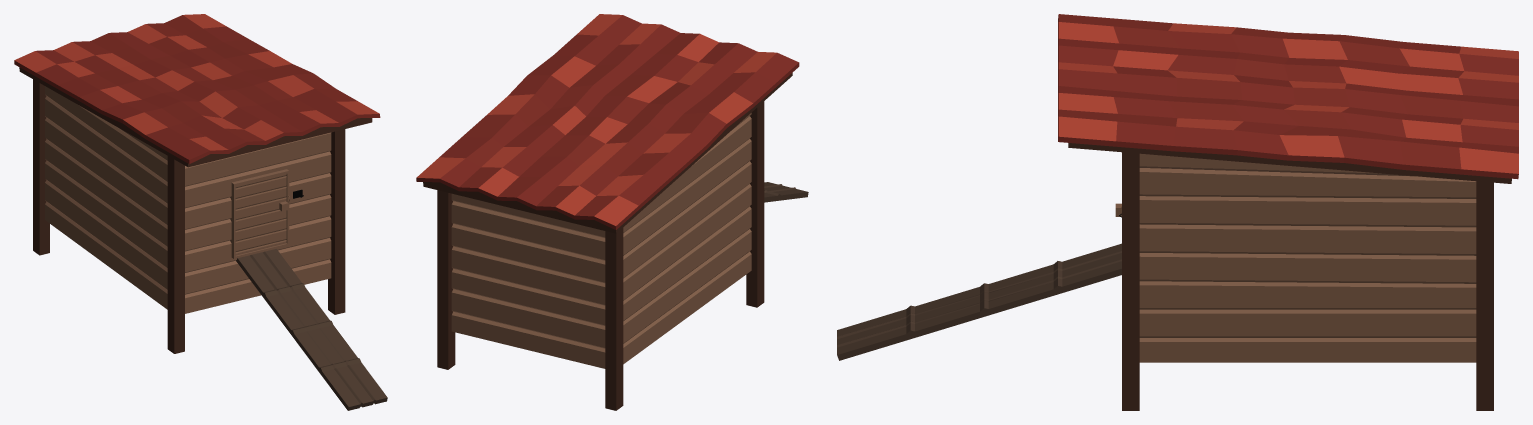
Rendered from Coop_A.gltf.
3 views of the same model, side by side, from view 1: azimuth 30°, elevation 25°; view 2: azimuth 150°, elevation 25°; view 3: azimuth 270°, elevation 25° (orthographic). The views are drawn at different scales.
Visible parts, largest first — view 1: Coop_A, CoopDoor_A; view 2: Coop_A; view 3: Coop_A.
Part boxes in pixels (x1,y1,x2,y2): Coop_A: (14, 14, 387, 410); CoopDoor_A: (230, 169, 289, 258); Coop_A: (416, 14, 808, 410); Coop_A: (837, 14, 1518, 410).
Bounding box in the file's own units: 0.8279 × 0.8938 × 1.92.
